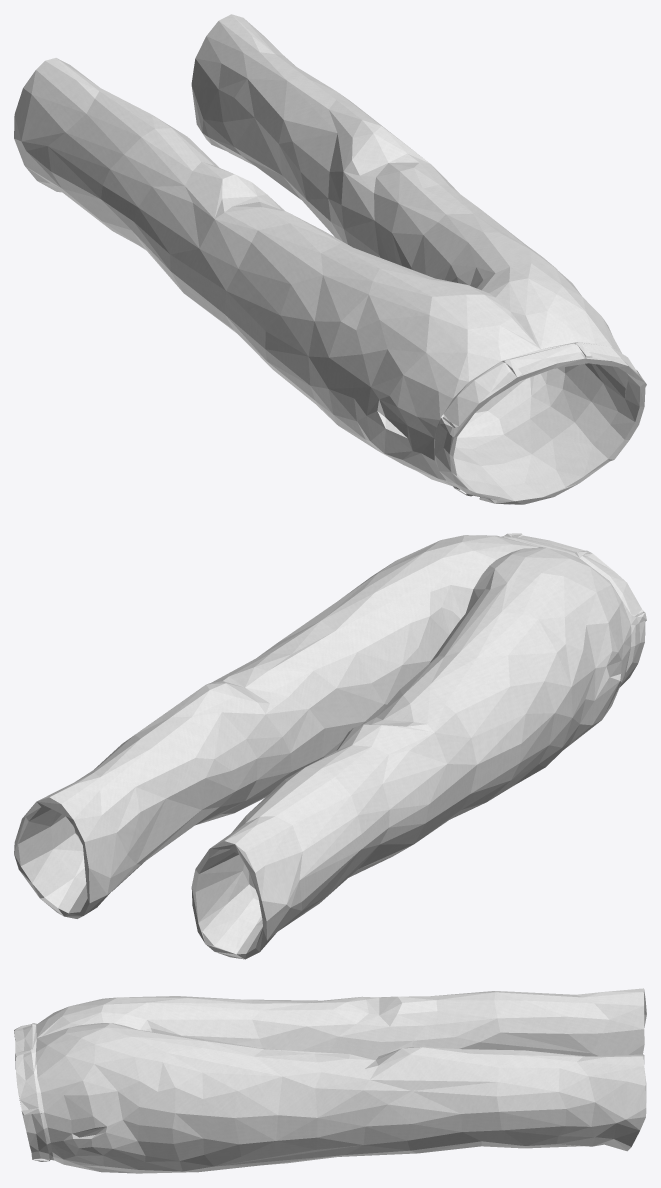
Rendered from pants.glb.
The picture shows the model from 3 angles, top to bottom: view 1: azimuth 30°, elevation 25°; view 2: azimuth 150°, elevation 25°; view 3: azimuth 270°, elevation 25°; orthographic projection. The views are drawn at different scales.
Visible parts, largest first — view 1: 13648_Polo_Pants_v2_L3; view 2: 13648_Polo_Pants_v2_L3; view 3: 13648_Polo_Pants_v2_L3.
Boxes of the visible parts, x1=… form: 13648_Polo_Pants_v2_L3: x1=14, y1=14, x2=646, y2=504; 13648_Polo_Pants_v2_L3: x1=14, y1=533, x2=646, y2=959; 13648_Polo_Pants_v2_L3: x1=14, y1=988, x2=646, y2=1173.
Bounding box in the file's own units: 18.33 × 12.08 × 50.07.
Materials: 2 (1 with a texture image).
